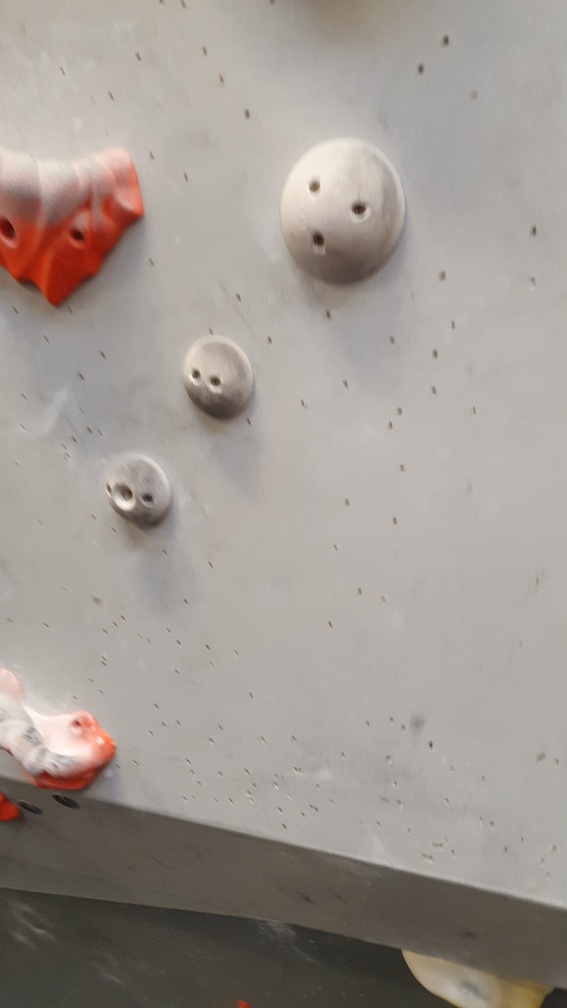Jug: (1, 132, 152, 310), (1, 663, 121, 798)
Sloper: (280, 133, 412, 290), (179, 335, 258, 422), (103, 450, 177, 532)
